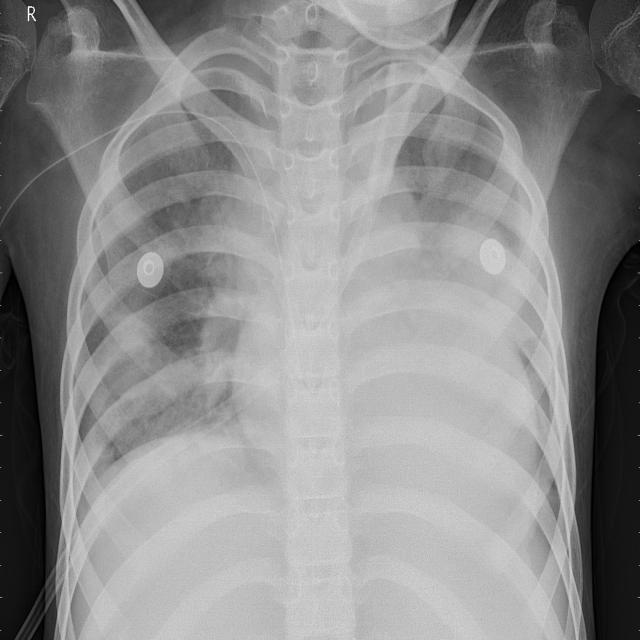high-pneumonia: (98, 198, 252, 429), (427, 170, 549, 340)
